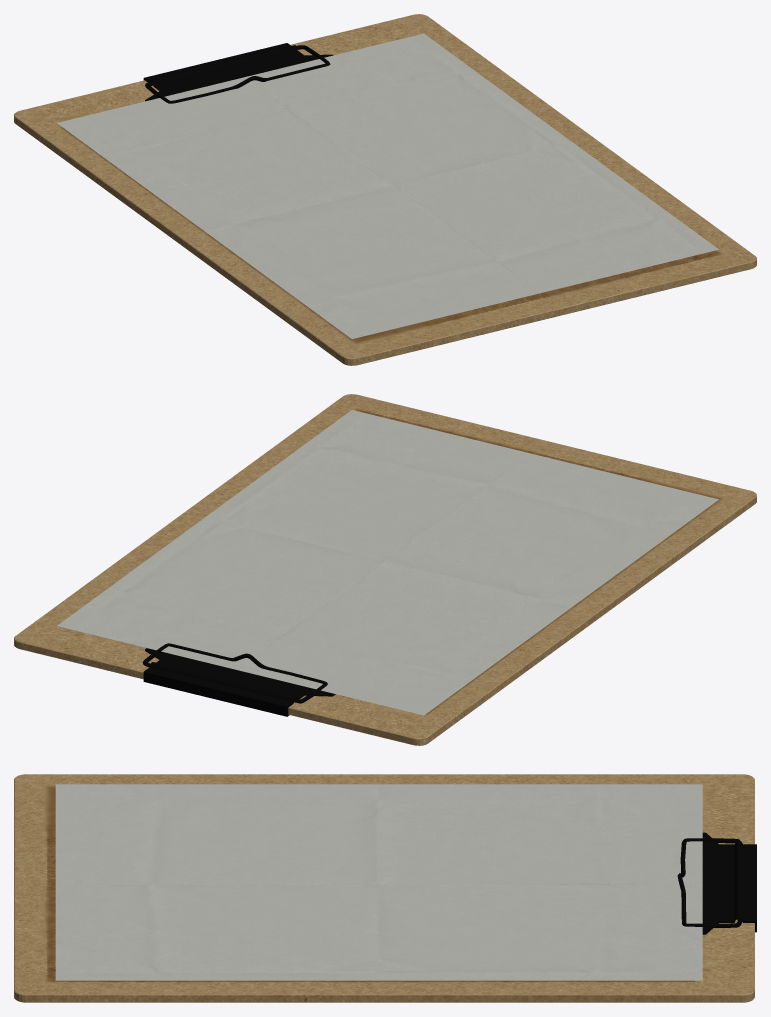
File: ClipBoard.fbx
3 renders of one model, top to bottom at view 1: azimuth 30°, elevation 25°; view 2: azimuth 150°, elevation 25°; view 3: azimuth 270°, elevation 25°, orthographic. The views are drawn at different scales.
Parts seen in each view (by area): view 1: page, board_1, Sweep; view 2: page, board_1, Sweep; view 3: page, board_1, Sweep.
Boxes of the visible parts, x1,y1,x2,y2 form: page: [57, 33, 718, 339]; board_1: [14, 14, 756, 365]; Sweep: [143, 43, 333, 103]; page: [57, 410, 718, 715]; board_1: [14, 394, 756, 745]; Sweep: [142, 643, 335, 716]; page: [55, 784, 702, 980]; board_1: [14, 774, 754, 1002]; Sweep: [677, 832, 756, 934].
Size of the model in its own units: 26.74 by 1.17 by 38.01.
3 materials, 2 textured.
